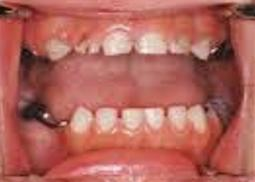Caries: (20, 99, 51, 123), (211, 44, 231, 61)
